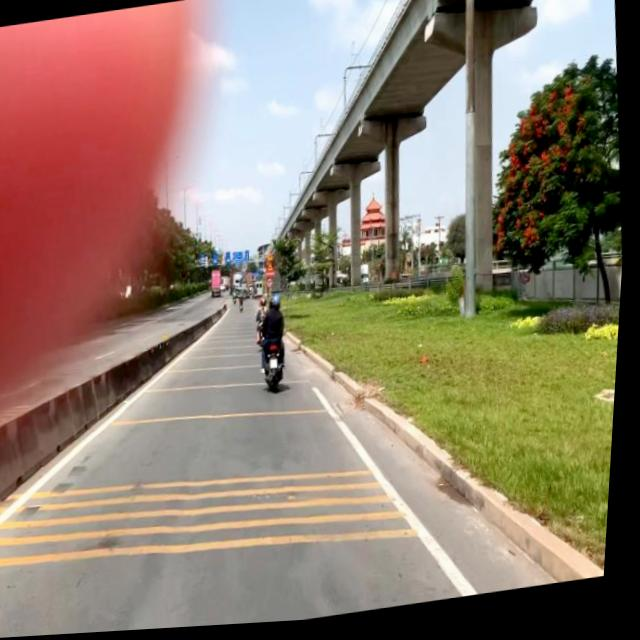Cam re phai: (269, 280, 277, 292)
Di cham: (269, 263, 278, 275)
Giao nhau voi duong khong uu tien ben phai: (269, 254, 276, 265)
